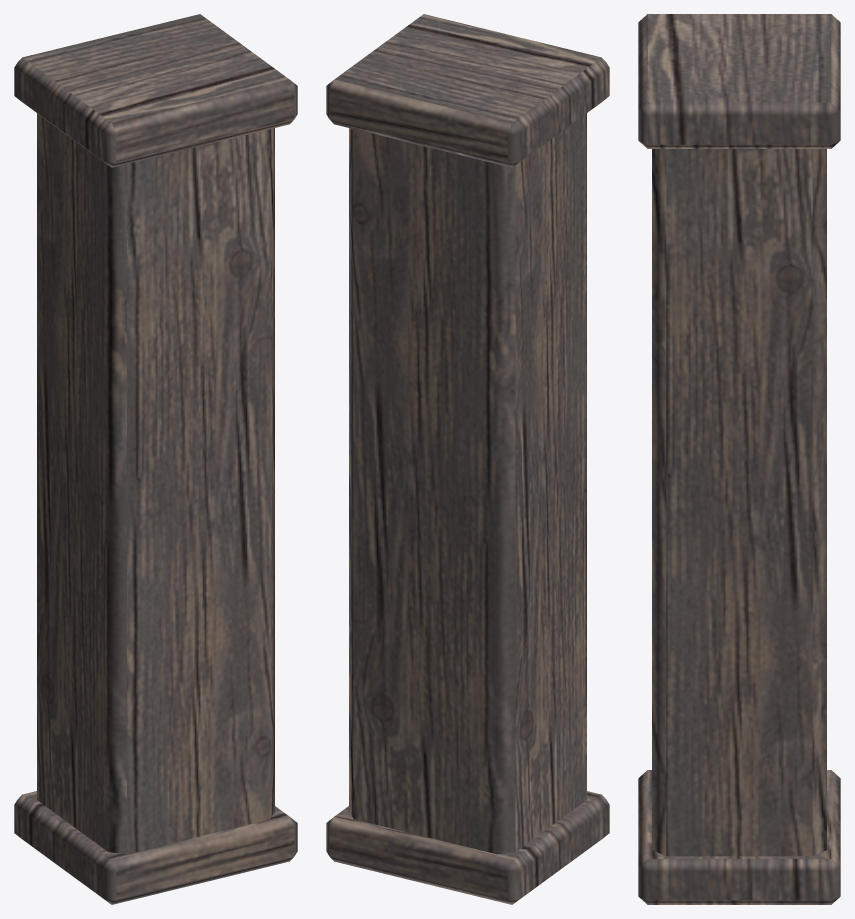
The model's file is IntWoodFence01pillar.FBX.
3 renders of one model, left to right at view 1: azimuth 30°, elevation 25°; view 2: azimuth 150°, elevation 25°; view 3: azimuth 270°, elevation 25°, orthographic. The views are drawn at different scales.
Parts seen in each view (by area): view 1: Object025; view 2: Object025; view 3: Object025.
Boxes of the visible parts, x1,y1,x2,y2 form: Object025: [14, 14, 297, 904]; Object025: [326, 14, 609, 904]; Object025: [638, 14, 840, 904].
Bounding box in the file's own units: 7.63 × 29.39 × 6.73.
